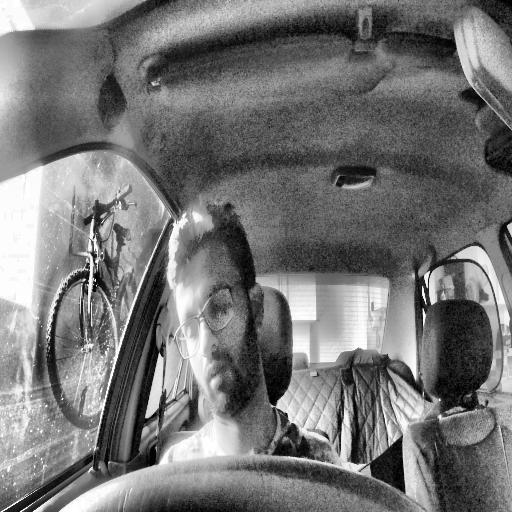drowsy: (167, 196, 266, 418)
